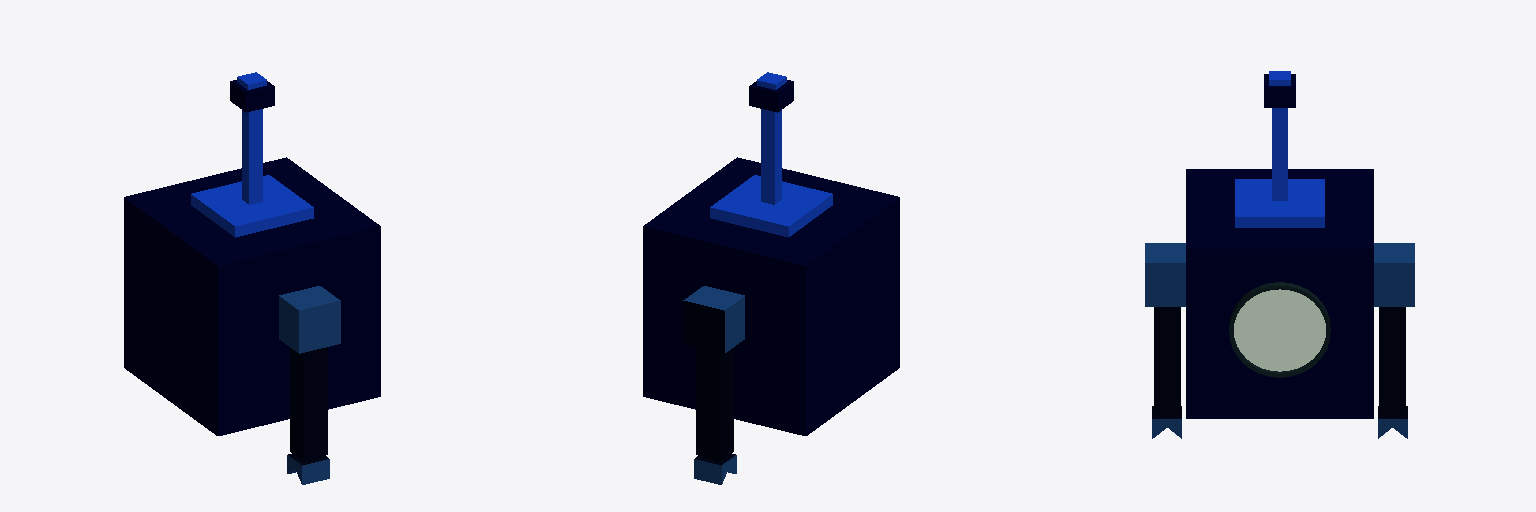
File: aux_robot.obj
The picture shows the model from 3 angles: view 1: azimuth 30°, elevation 25°; view 2: azimuth 150°, elevation 25°; view 3: azimuth 270°, elevation 25°; orthographic projection.
Parts seen in each view (by area): view 1: Cube, Arm1_Cube.001; view 2: Cube, Arm1.001_Cube.003; view 3: Cube, Circle, Arm1_Cube.001, Arm1.001_Cube.003.
Part boxes in pixels (x1,y1,x2,y2): Cube: (124,72,380,435); Arm1_Cube.001: (279,286,340,484); Cube: (643,72,899,435); Arm1.001_Cube.003: (683,286,744,484); Cube: (1186,71,1373,418); Circle: (1229,282,1330,377); Arm1_Cube.001: (1145,243,1185,438); Arm1.001_Cube.003: (1374,243,1414,438).
Bounding box in the file's own units: 2.09 × 4.18 × 2.87.